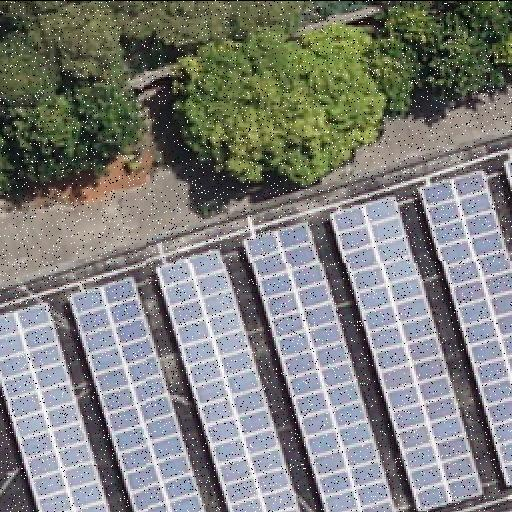solar-panel: (327, 192, 481, 512), (243, 220, 397, 512), (156, 248, 296, 512), (70, 273, 202, 511), (417, 166, 511, 486), (0, 300, 108, 512), (505, 157, 511, 179)
